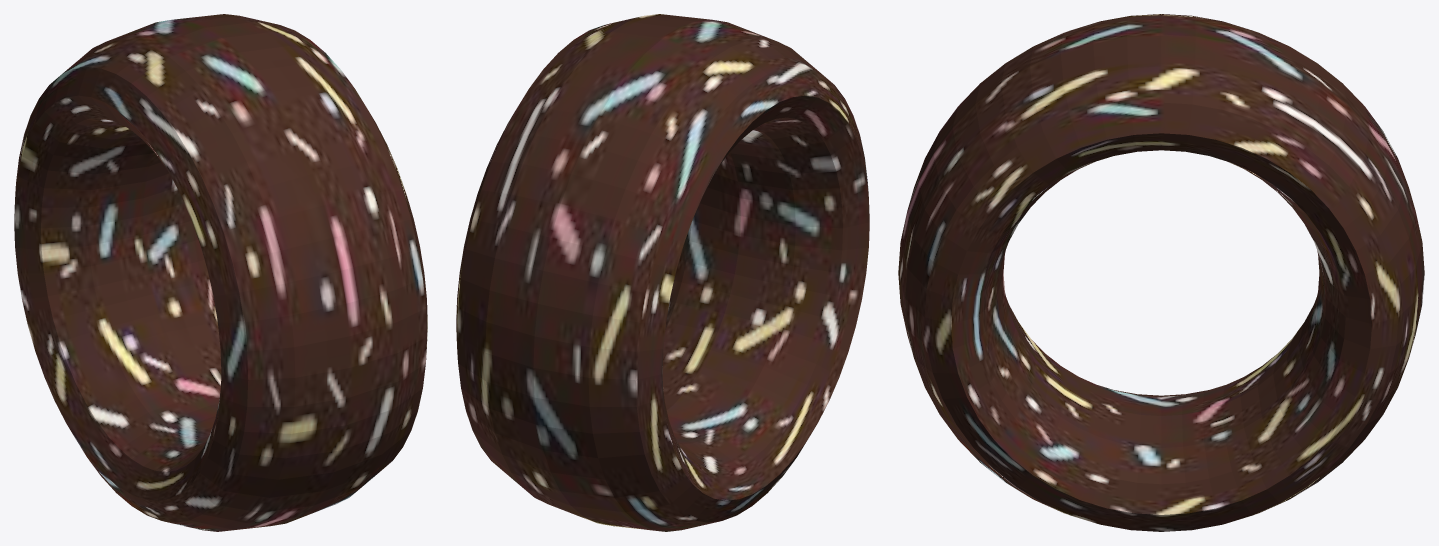
File: Donut.fbx
3 views of the same model, side by side, from view 1: azimuth 30°, elevation 25°; view 2: azimuth 150°, elevation 25°; view 3: azimuth 270°, elevation 25° (orthographic).
Visible parts, largest first — view 1: Torus; view 2: Torus; view 3: Torus.
Boxes of the visible parts, x1=… form: Torus: x1=14, y1=14, x2=427, y2=531; Torus: x1=456, y1=14, x2=869, y2=531; Torus: x1=898, y1=14, x2=1424, y2=531.
Bounding box in the file's own units: 115 × 250 × 250.
Materials: 1 (1 with a texture image).
